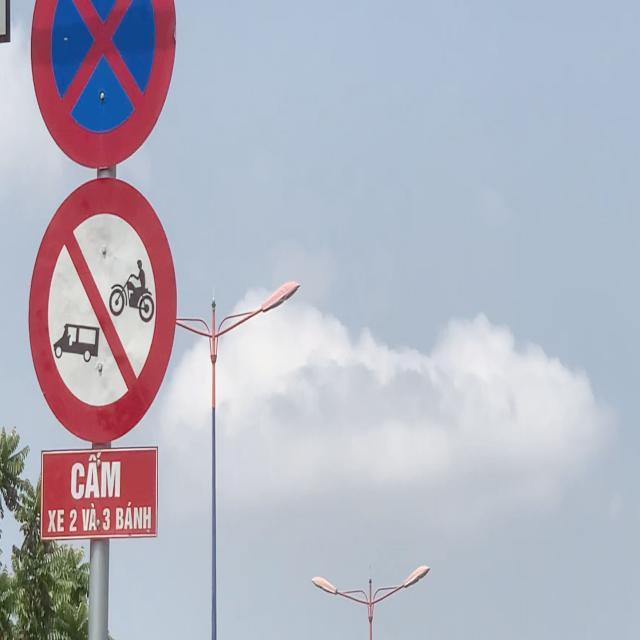Cam con lai: (26, 175, 177, 445)
Cam dung va do: (27, 0, 178, 172)
